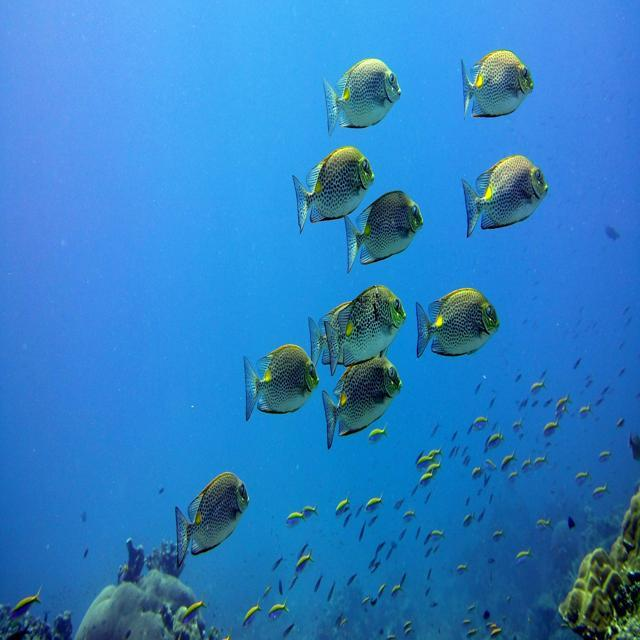fish: (293, 143, 378, 233), (326, 284, 408, 377), (461, 154, 550, 237), (175, 471, 250, 569), (325, 359, 405, 448), (342, 189, 426, 269), (325, 57, 402, 136), (414, 287, 499, 357), (245, 343, 323, 419), (462, 47, 534, 118), (7, 582, 43, 625), (243, 598, 263, 625), (514, 545, 535, 565), (184, 601, 202, 624), (332, 497, 351, 518), (369, 426, 390, 445), (501, 447, 517, 470), (543, 415, 562, 433), (365, 494, 384, 511), (296, 552, 313, 570), (593, 480, 611, 497), (268, 600, 288, 615), (299, 503, 318, 518), (530, 380, 548, 395), (536, 516, 555, 530), (556, 395, 573, 410), (487, 433, 504, 447), (286, 511, 304, 524), (272, 554, 285, 572), (282, 621, 294, 640), (578, 403, 594, 417), (358, 520, 368, 542), (420, 472, 434, 487), (492, 527, 505, 543), (474, 415, 490, 427), (512, 416, 524, 432), (431, 528, 447, 540), (417, 456, 437, 465), (535, 453, 550, 465), (299, 543, 310, 559), (429, 447, 445, 458), (314, 575, 324, 592), (485, 458, 498, 471), (471, 467, 483, 481), (262, 583, 273, 598), (575, 471, 590, 482), (327, 581, 335, 601), (456, 562, 468, 575), (391, 583, 404, 595), (290, 574, 299, 591), (427, 462, 442, 472), (378, 583, 387, 599), (490, 627, 502, 639), (360, 595, 372, 607), (599, 450, 612, 461), (521, 457, 532, 470), (463, 514, 472, 529), (403, 510, 416, 520), (347, 572, 356, 586), (370, 514, 379, 527), (509, 471, 520, 480), (345, 514, 351, 529), (386, 633, 398, 640), (278, 580, 283, 596), (467, 629, 477, 637), (404, 621, 414, 628), (405, 628, 413, 636), (463, 618, 472, 625)
